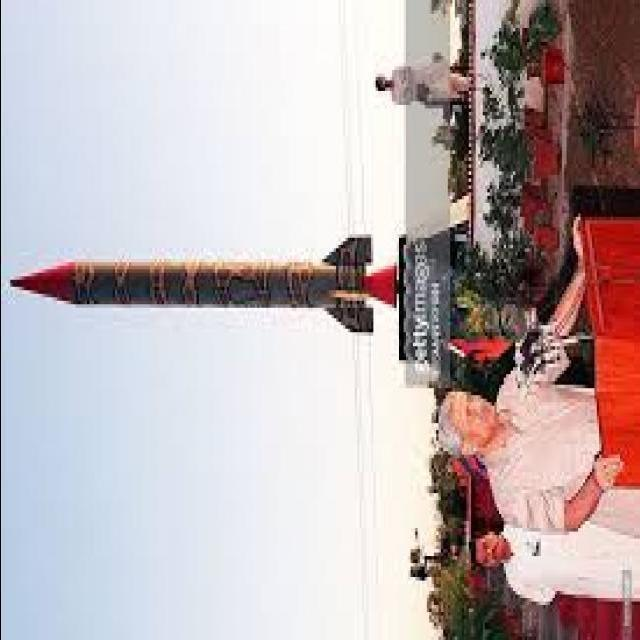missile: (10, 233, 396, 334)
